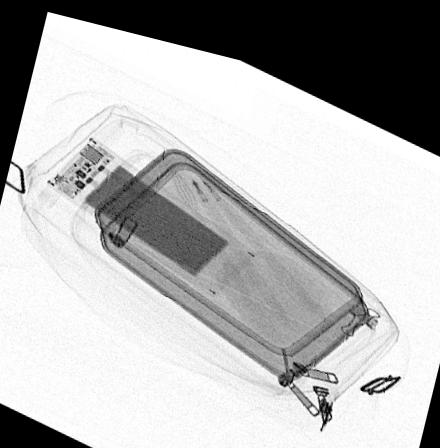Powerbank: (41, 127, 257, 287)
